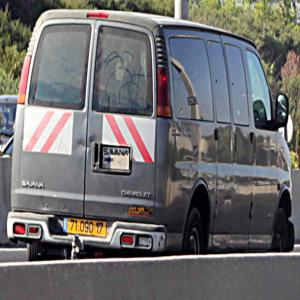Vehicle-registration-plate: (65, 218, 108, 239)
